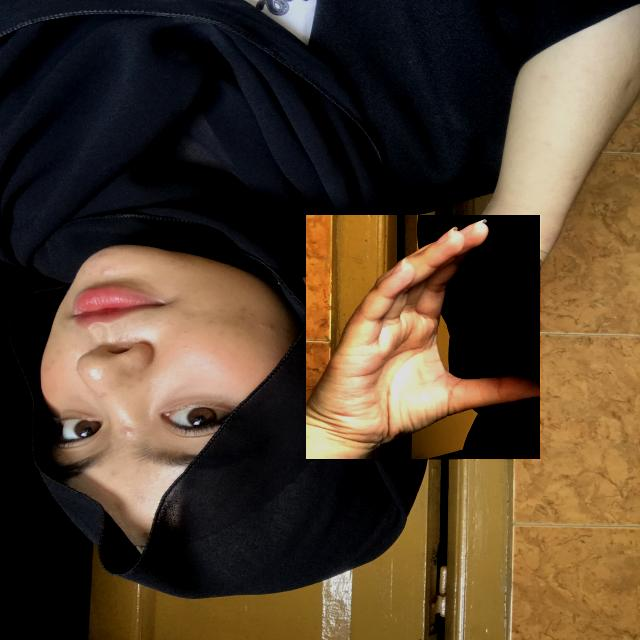mendengar: (306, 215, 541, 460)
